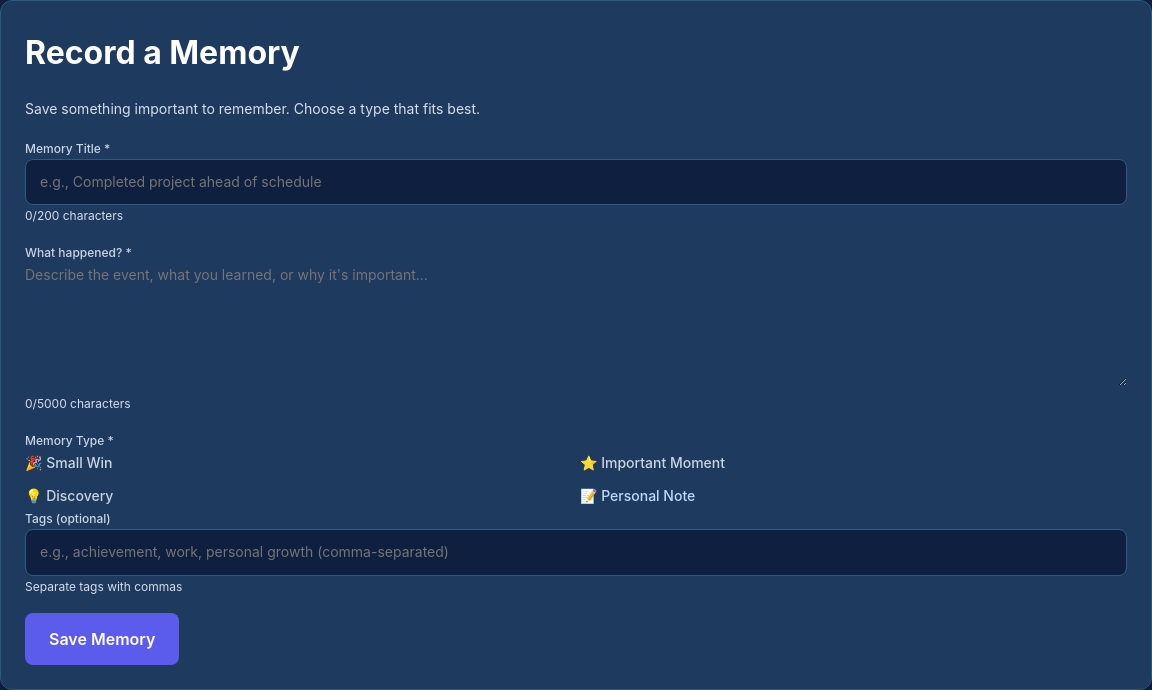
MemoryRecorder Integration Tests › Integration: Component → MemoryManager → Supabase › should create memory end-to-end with real MemoryManager
The image size is (1152, 690).
Type "Completed project ahead of schedule" into the field with placeholder "e.g., Completed project ahead of schedule" at (576,182), box [25,158,1127,205]
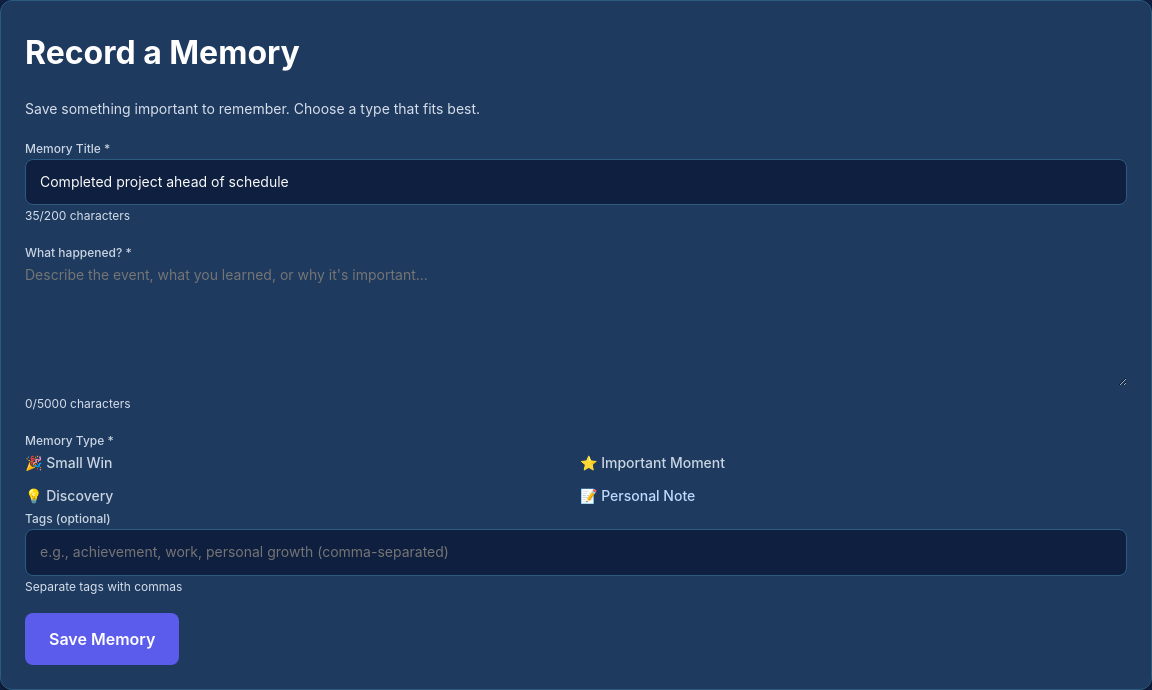
Type "Successfully delivered project 2 days early despite challenges" into the text box with placeholder "Describe the event" at (576,324), box [25,263,1127,386]
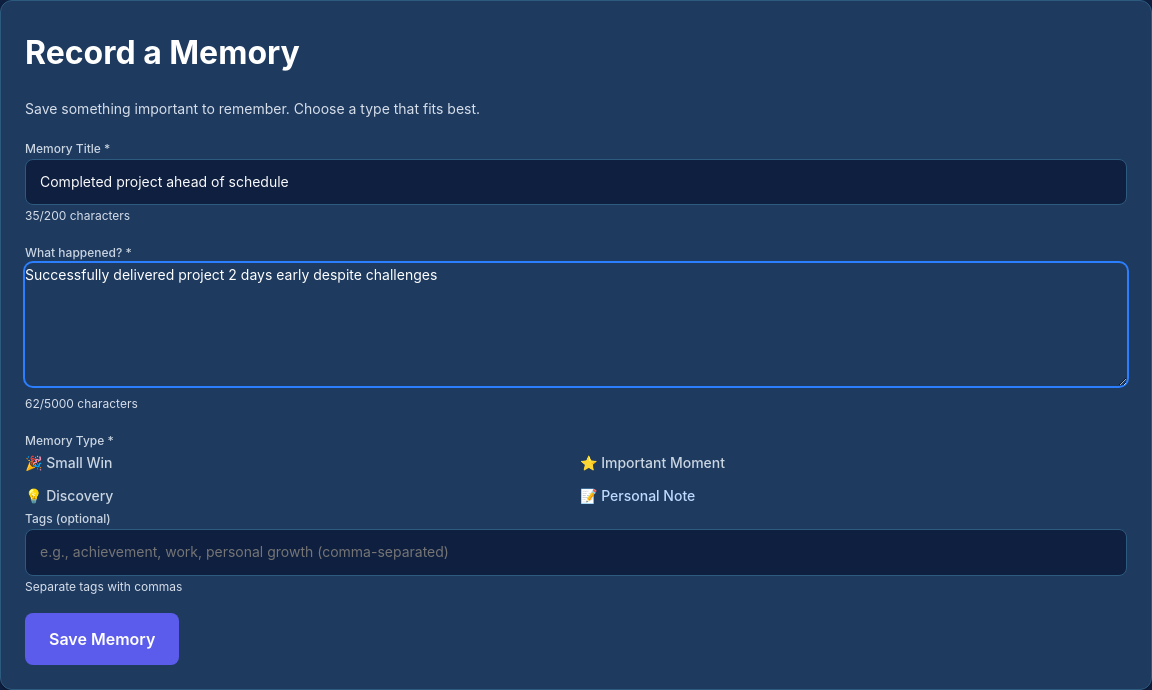
# Select memory type
Click the button "🎉 Small Win" at (69,462), box [25,451,572,476]
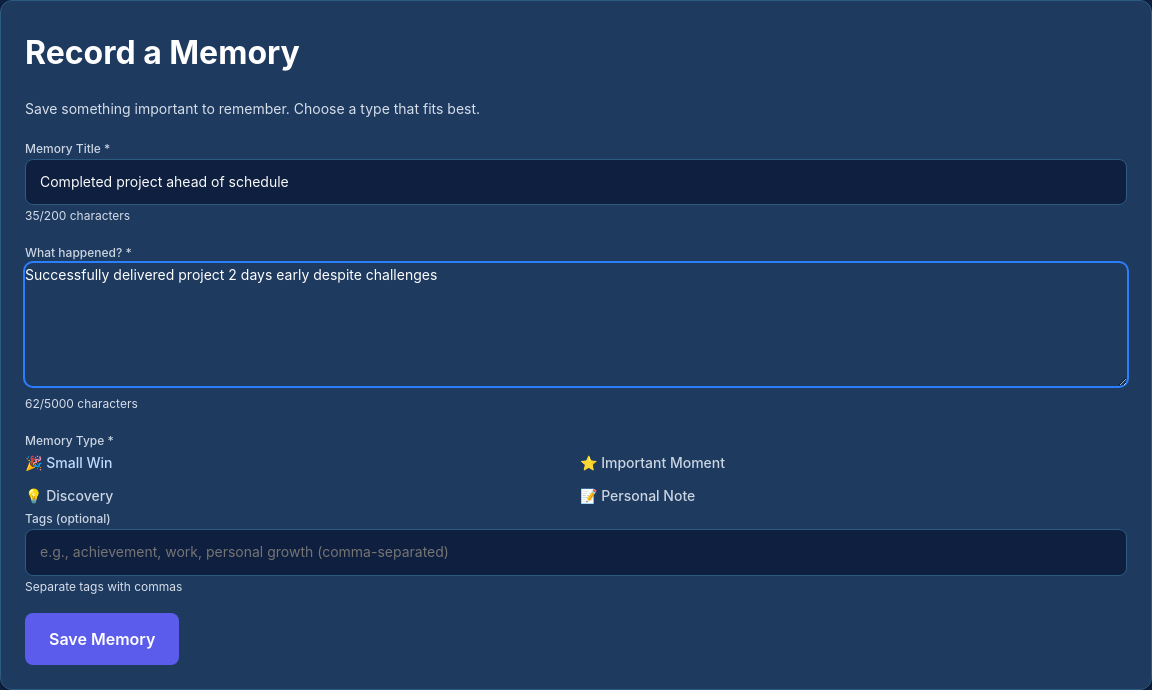
# Add tags
Type "achievement, work" into the field with placeholder "e.g., achievement, work, personal growth (comma-separated)" at (576,552), box [25,529,1127,576]
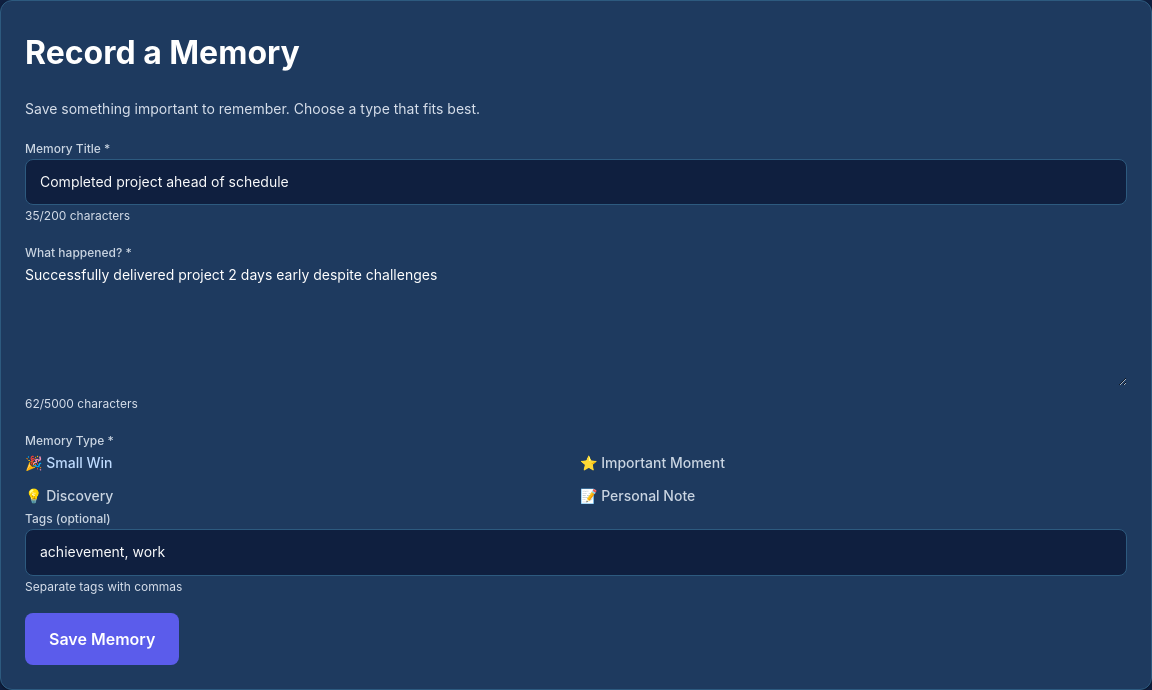
Click the button "Save Memory" at (102,638), box [25,612,179,664]
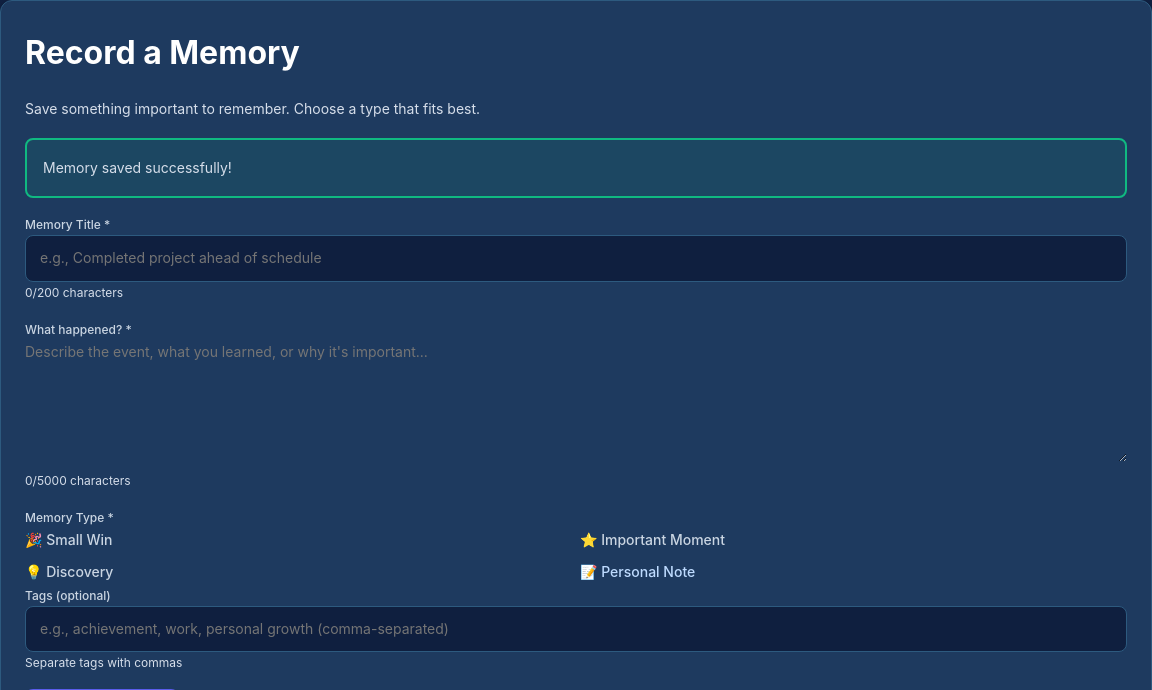
Check: the text "Memory saved successfully!" is shown, box [43,158,232,176]
Check: the field with placeholder "e.g., Completed project ahead of schedule" is empty, box [25,235,1127,282]
Check: the text box with placeholder "Describe the event" is empty, box [25,340,1127,462]
